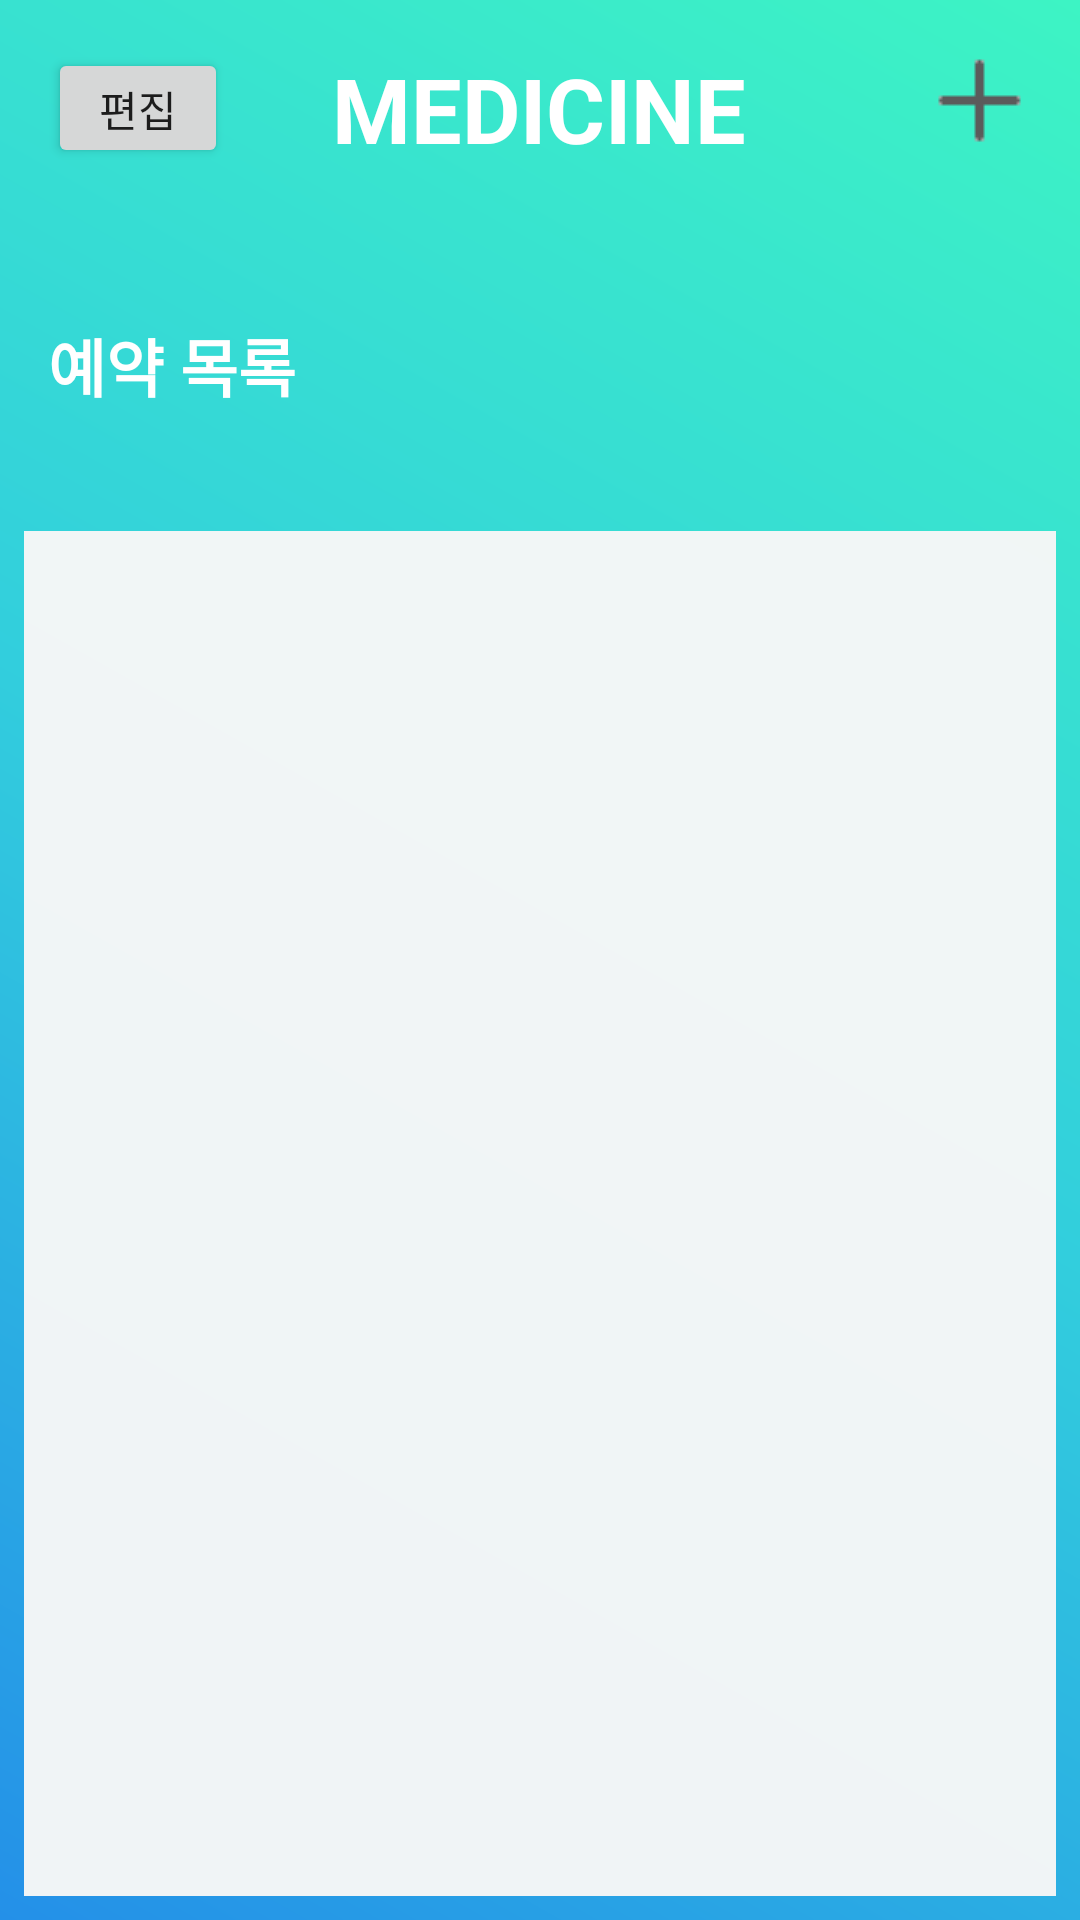

Where icons sit on this 1080×1920 app screen, as (x1, y1, x2, y2):
plus: (938, 59, 1021, 142)
